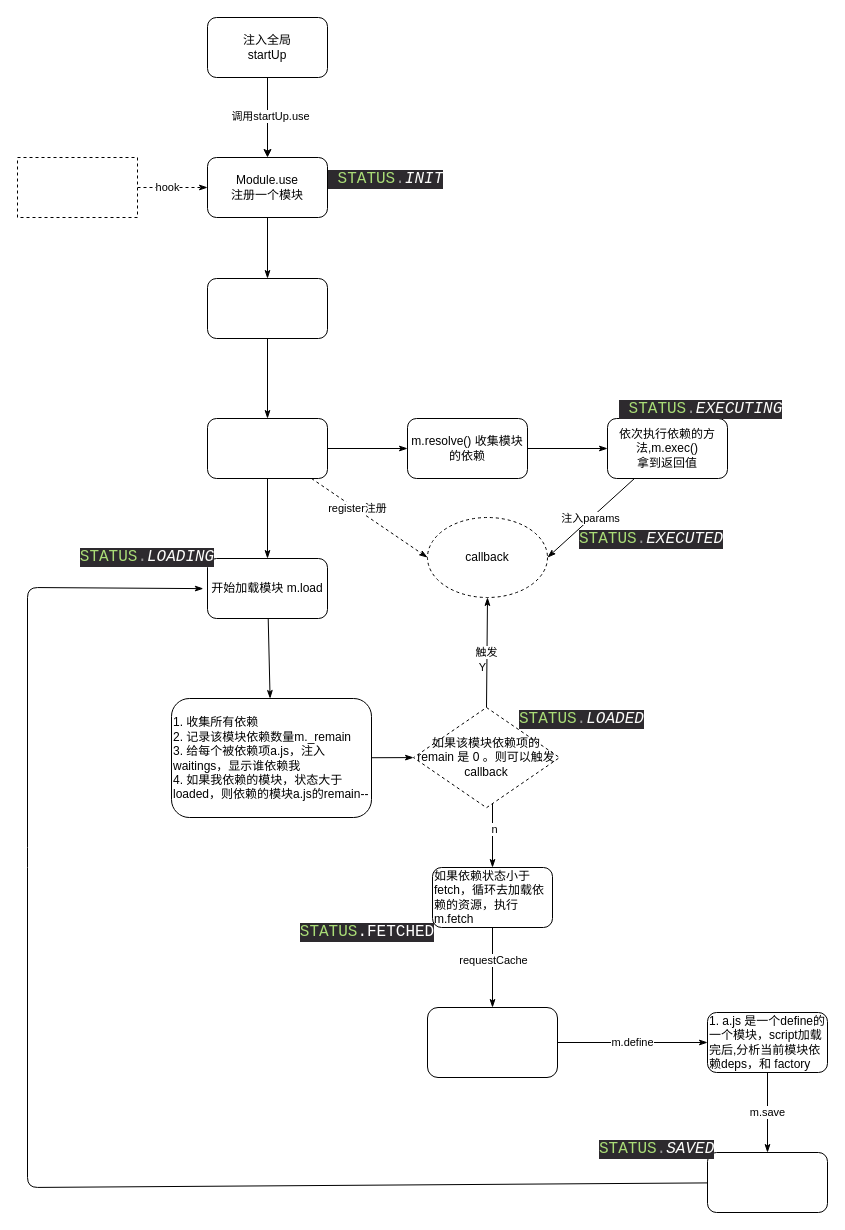
Image size: 845x1230. Some labels were removed from this diagram. Each missing label, with the box of its shape:
1. 保存当前模块信息save 2. m.load加载模块: (706, 1152, 828, 1212)
1.组合需要请求的对象 startUp.request(uri,onRequest) 2. 动态创建 script 标签，加载 a.js: (426, 1006, 558, 1078)
Module.get 拿到模块的缓存信息: (206, 278, 328, 338)
Module.preload: (16, 156, 138, 218)
注册模块的callback事件，: (206, 418, 328, 478)
